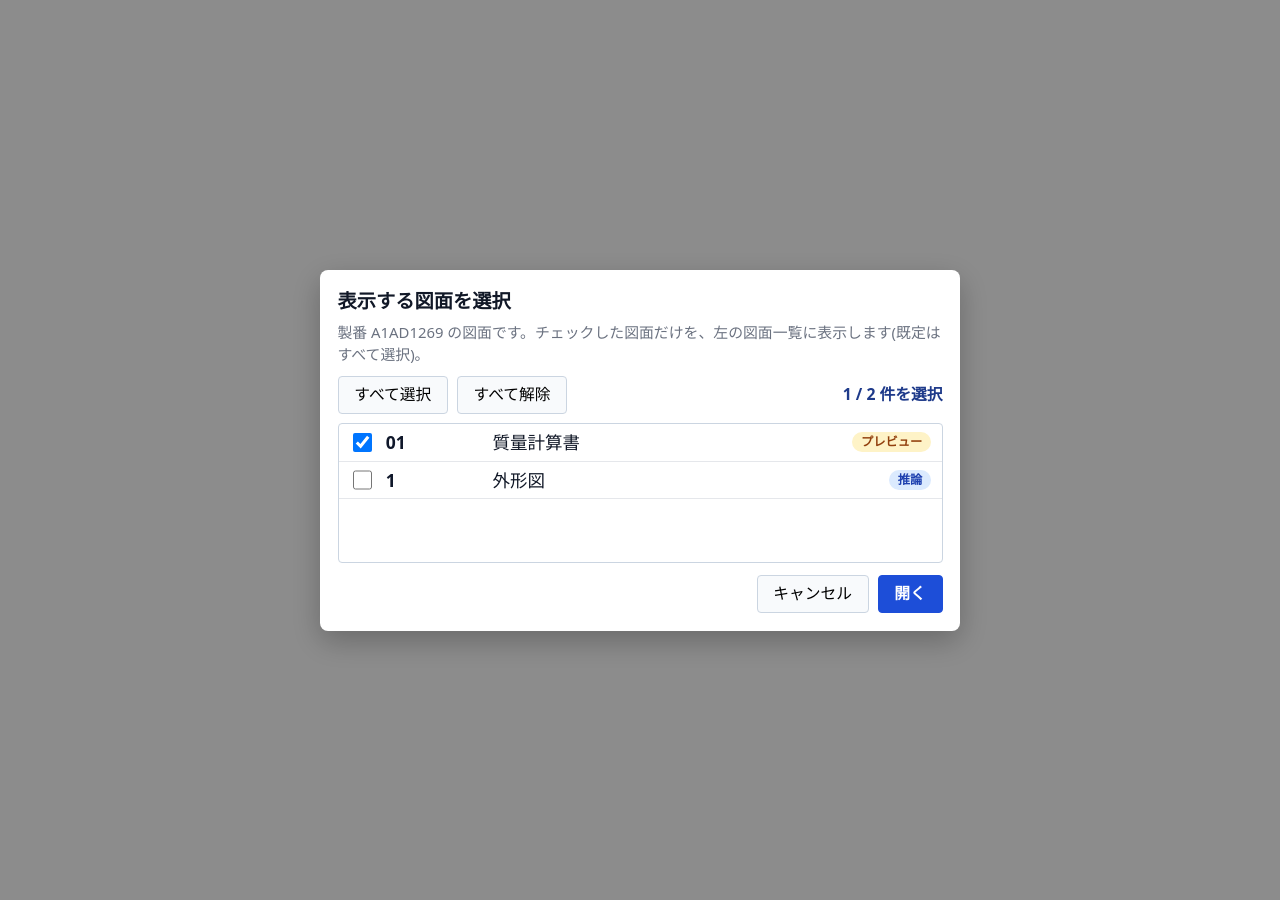
DesignPagePicker › reflects the previous exclusion and disables open when nothing is checked
This screenshot has width=1280, height=900.
Expected: the text "1 / 2 件を選択" is shown, [843, 383, 942, 407]
Click the button "すべて解除".
click(512, 395)  # box [457, 376, 567, 414]
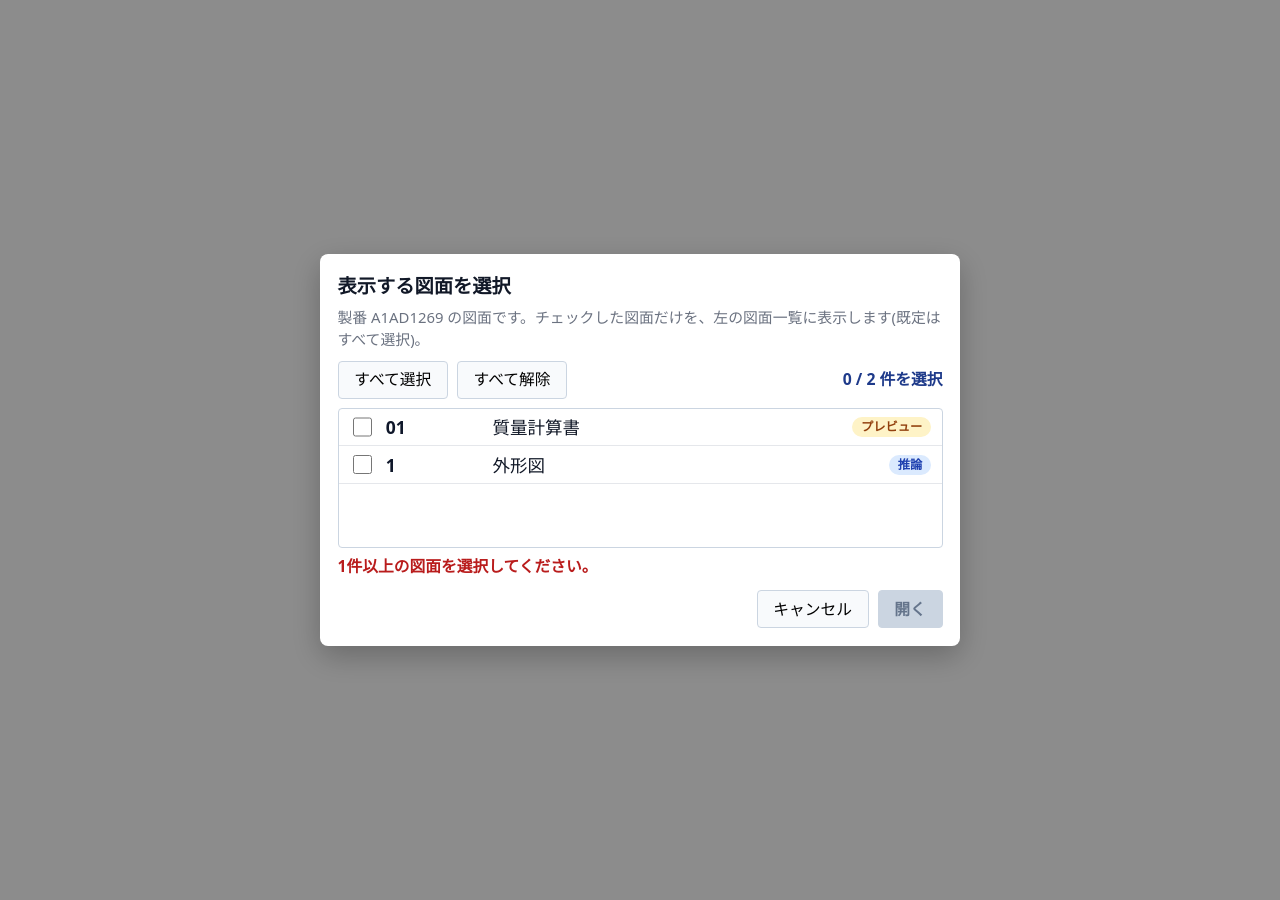
Now the button "開く" is disabled, box [878, 590, 942, 628]
